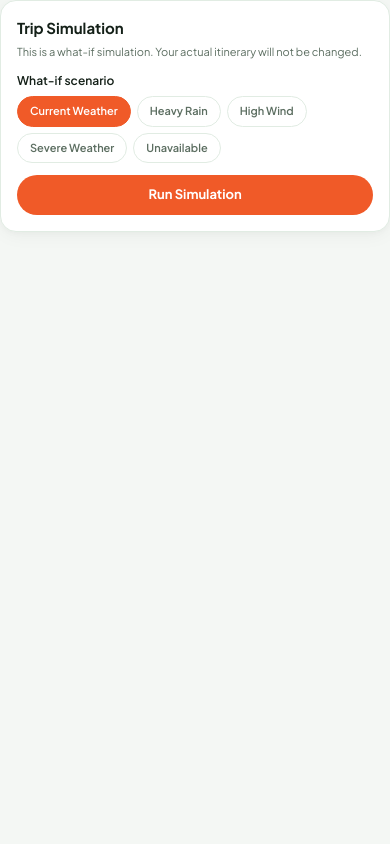
Test: SimulationCard › runs simulation with no scenario override by default
What coordinates should you click on to do the following:
click the button "Run Simulation"
I would click on:
 (195, 195)
Its box is x1=17 y1=175 x2=373 y2=214.
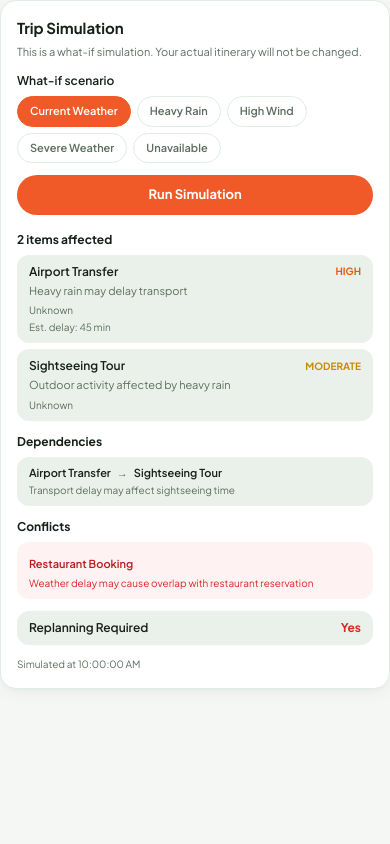
Expected: the text "2 items affected" is shown, x1=17 y1=232 x2=112 y2=246
